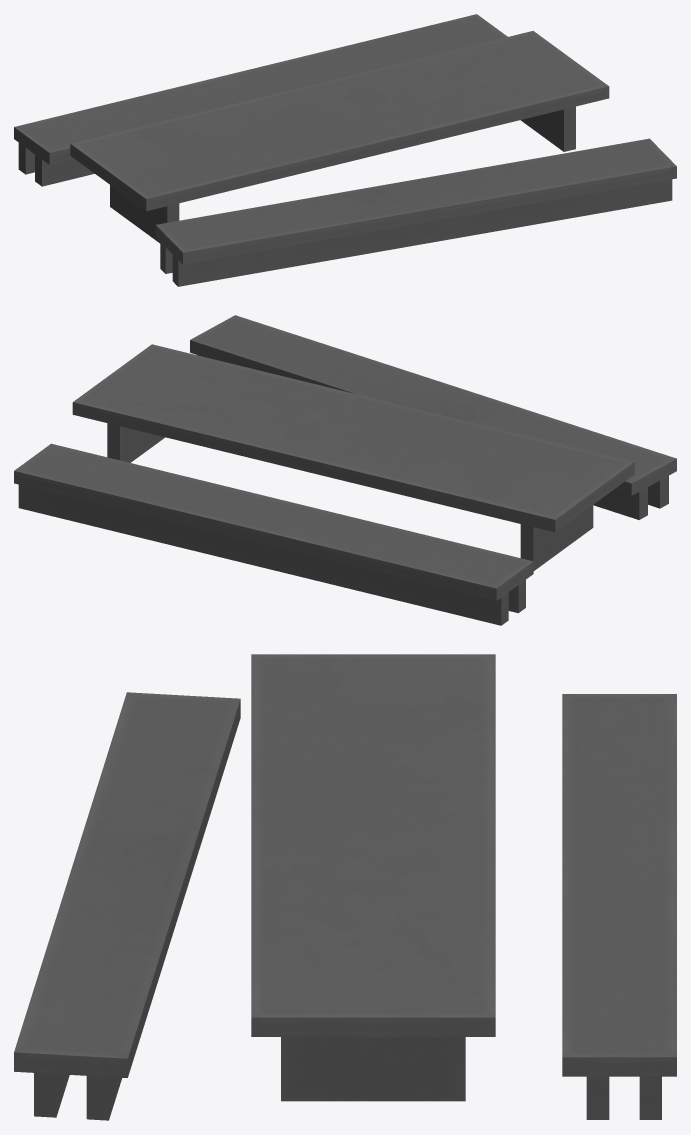
File: Pfb_Canteen__4.fbx
3 renders of one model, top to bottom at view 1: azimuth 30°, elevation 25°; view 2: azimuth 150°, elevation 25°; view 3: azimuth 270°, elevation 25°, orthographic. The views are drawn at different scales.
Parts seen in each view (by area): view 1: Mat_Canteen_02; view 2: Mat_Canteen_02; view 3: Mat_Canteen_02.
Part boxes in pixels (x1=…): Mat_Canteen_02: x1=14, y1=14, x2=676, y2=286; Mat_Canteen_02: x1=14, y1=315, x2=676, y2=625; Mat_Canteen_02: x1=14, y1=654, x2=676, y2=1120.
Size of the model in its own units: 3.52 by 0.4592 by 2.69.
1 material, 1 textured.
